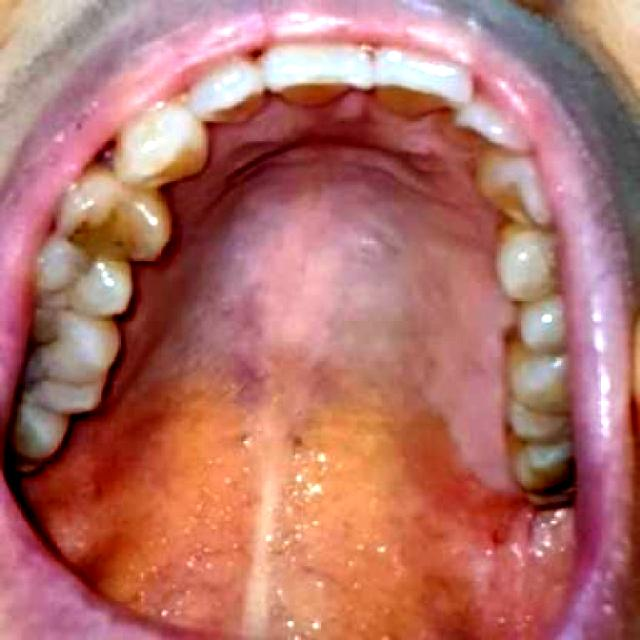Plaque: (29, 329, 67, 361), (22, 366, 60, 397), (63, 215, 97, 248), (107, 236, 131, 254)
